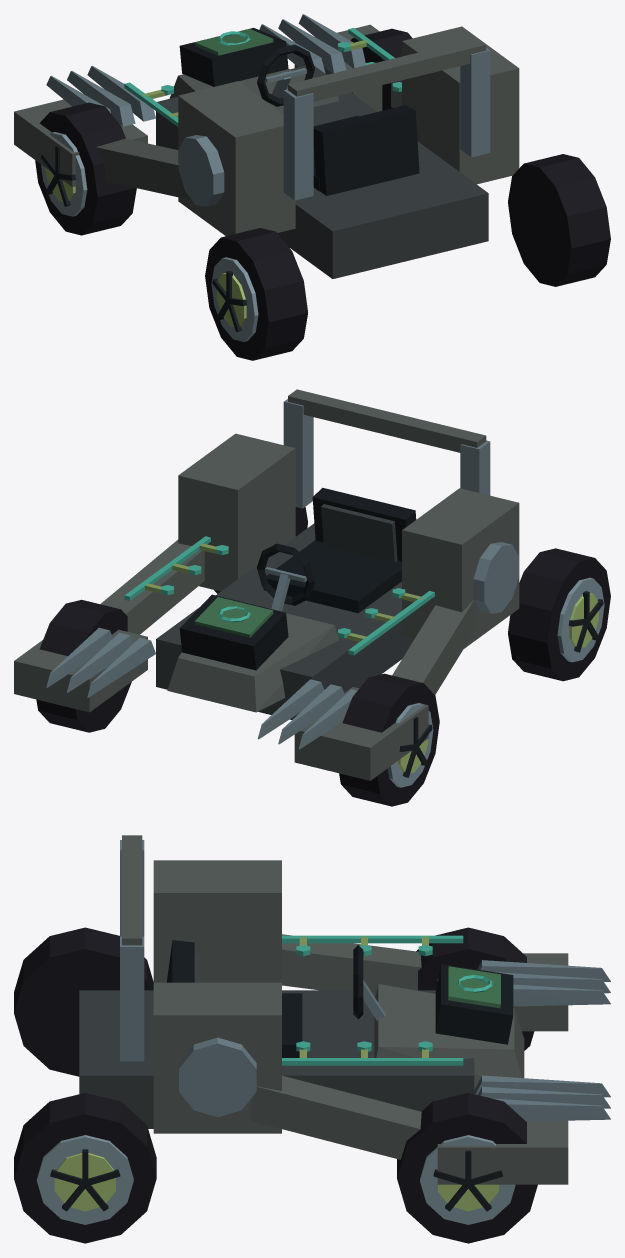
File: kart.glb
3 views of the same model, one above another, from view 1: azimuth 30°, elevation 25°; view 2: azimuth 150°, elevation 25°; view 3: azimuth 270°, elevation 25° (orthographic). The views are drawn at different scales.
Visible parts, largest first — view 1: identity-mech-mech-articulated-limbs-and-open-harness, wheel-rear-right, wheel-rear-left, identity-mech-driver-cockpit, wheel-front-left, identity-mech-motif-claws, identity-mech-motif-scanner, identity-mech-motif-circuit, wheel-front-right; view 2: identity-mech-mech-articulated-limbs-and-open-harness, identity-mech-driver-cockpit, wheel-rear-left, wheel-front-left, identity-mech-motif-claws, identity-mech-motif-scanner, wheel-front-right, identity-mech-motif-circuit; view 3: identity-mech-mech-articulated-limbs-and-open-harness, wheel-rear-right, wheel-front-right, wheel-rear-left, identity-mech-motif-claws, identity-mech-motif-scanner, identity-mech-motif-circuit, identity-mech-driver-cockpit, wheel-front-left.
Part boxes in pixels (x1,y1,x2,y2): identity-mech-mech-articulated-limbs-and-open-harness: (14, 24, 519, 278); wheel-rear-right: (508, 154, 610, 286); wheel-rear-left: (205, 228, 307, 360); identity-mech-driver-cockpit: (257, 44, 419, 195); wheel-front-left: (35, 102, 136, 235); identity-mech-motif-claws: (46, 14, 365, 126); identity-mech-motif-scanner: (179, 27, 288, 86); identity-mech-motif-circuit: (124, 28, 401, 126); wheel-front-right: (350, 28, 412, 110); identity-mech-mech-articulated-limbs-and-open-harness: (14, 389, 519, 780); identity-mech-driver-cockpit: (257, 487, 416, 613); wheel-rear-left: (508, 548, 610, 681); wheel-front-left: (339, 673, 439, 806); identity-mech-motif-claws: (46, 627, 357, 749); identity-mech-motif-scanner: (179, 594, 288, 670); wheel-front-right: (36, 599, 131, 732); identity-mech-motif-circuit: (124, 536, 434, 655); identity-mech-mech-articulated-limbs-and-open-harness: (79, 835, 568, 1184); wheel-rear-right: (14, 1093, 156, 1243); wheel-front-right: (397, 1093, 537, 1243); wheel-rear-left: (14, 927, 153, 1076); identity-mech-motif-claws: (472, 960, 610, 1121); identity-mech-motif-scanner: (435, 964, 513, 1044); identity-mech-motif-circuit: (282, 935, 463, 1065); identity-mech-driver-cockpit: (166, 940, 385, 1057); wheel-front-left: (416, 927, 534, 1050).
Size of the model in its own units: 2.29 by 1.42 by 2.93.
